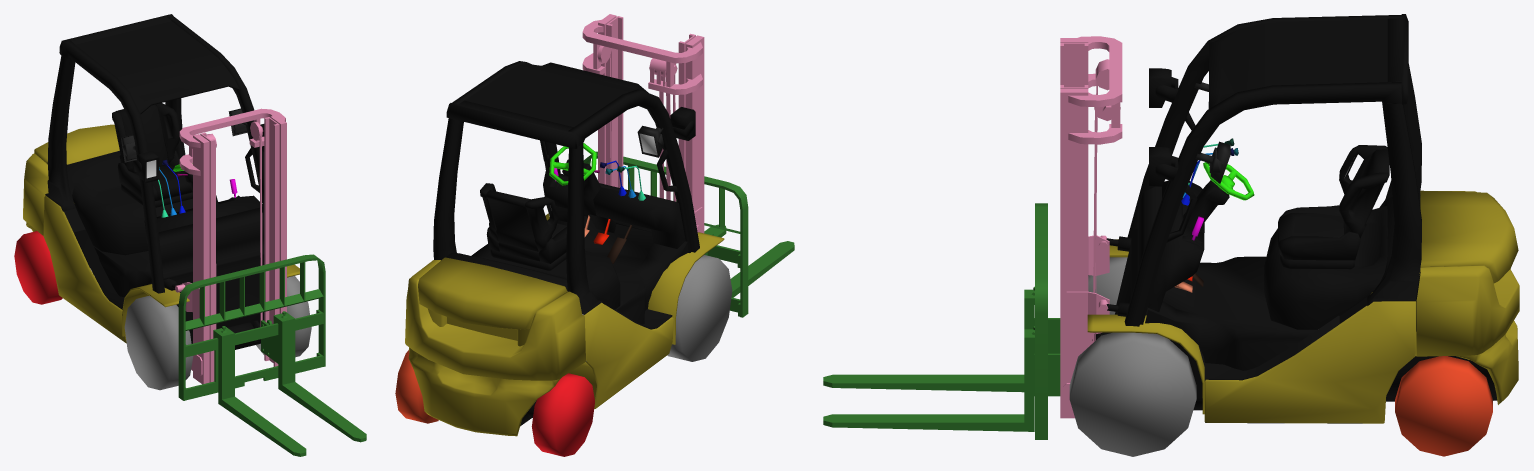
Rendered from ForkLift Final (2).fbx.
3 views of the same model, side by side, from view 1: azimuth 30°, elevation 25°; view 2: azimuth 150°, elevation 25°; view 3: azimuth 270°, elevation 25° (orthographic). The views are drawn at different scales.
Parts seen in each view (by area): view 1: Fork, Horquilla, HorquillaCuerda, Ruedas Delanteras, RuedaT2; view 2: Fork, HorquillaCuerda, Ruedas Delanteras, Horquilla, RuedaT2, RuedaT1, Espejo1, Volante; view 3: Fork, HorquillaCuerda, Ruedas Delanteras, Horquilla, RuedaT1, Espejo2, Volante.
Boxes of the visible parts, x1=… form: Fork: x1=23, y1=14, x2=299, y2=349; Horquilla: x1=178, y1=254, x2=366, y2=456; HorquillaCuerda: x1=175, y1=108, x2=286, y2=384; Ruedas Delanteras: x1=124, y1=275, x2=311, y2=390; RuedaT2: x1=14, y1=231, x2=62, y2=304; Fork: x1=405, y1=61, x2=724, y2=436; HorquillaCuerda: x1=582, y1=14, x2=704, y2=233; Ruedas Delanteras: x1=667, y1=255, x2=732, y2=361; Horquilla: x1=583, y1=151, x2=794, y2=317; RuedaT2: x1=531, y1=373, x2=594, y2=456; RuedaT1: x1=395, y1=350, x2=438, y2=423; Espejo1: x1=637, y1=125, x2=663, y2=157; Volante: x1=549, y1=143, x2=596, y2=185; Fork: x1=1087, y1=14, x2=1519, y2=423; HorquillaCuerda: x1=1060, y1=36, x2=1122, y2=418; Ruedas Delanteras: x1=1069, y1=257, x2=1196, y2=456; Horquilla: x1=823, y1=203, x2=1060, y2=439; RuedaT1: x1=1395, y1=356, x2=1492, y2=456; Espejo2: x1=1195, y1=141, x2=1230, y2=183; Volante: x1=1203, y1=162, x2=1254, y2=200.
Bounding box in the file's own units: 118 × 212 × 371.
